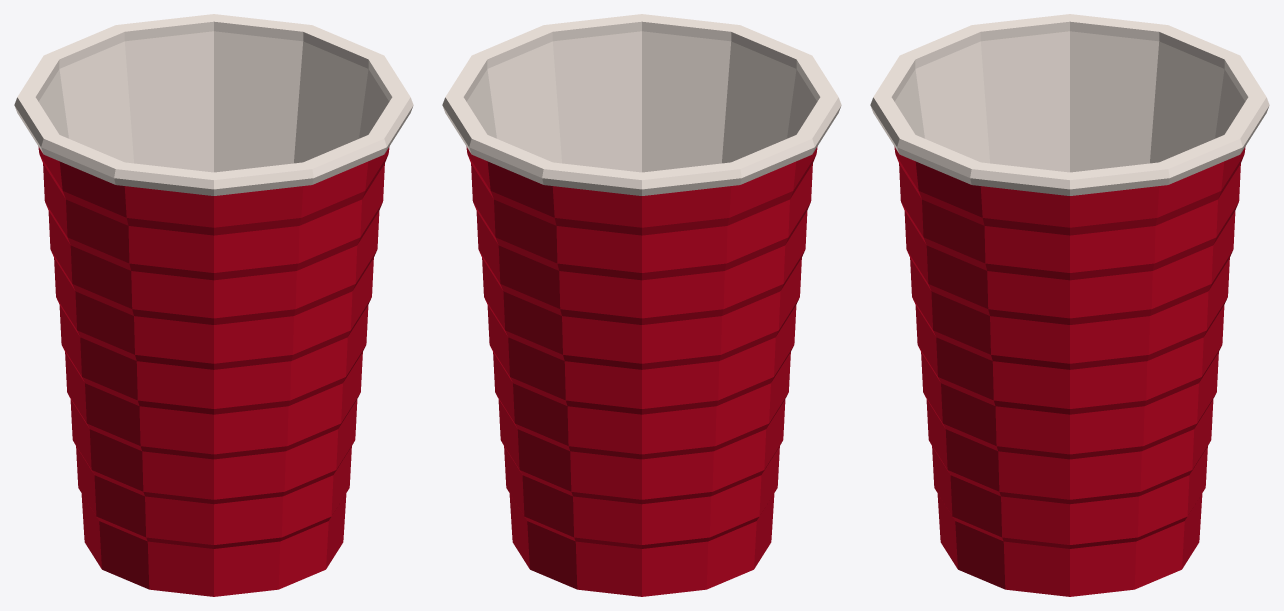
File: cup_red.fbx
3 views of the same model, side by side, from view 1: azimuth 30°, elevation 25°; view 2: azimuth 150°, elevation 25°; view 3: azimuth 270°, elevation 25° (orthographic).
Visible parts, largest first — view 1: Cylinder.004; view 2: Cylinder.004; view 3: Cylinder.004.
Part boxes in pixels (x1,y1,x2,y2): Cylinder.004: (14, 14, 413, 596); Cylinder.004: (442, 14, 841, 596); Cylinder.004: (870, 14, 1269, 596).
Size of the model in its own units: 601 by 739 by 601.
